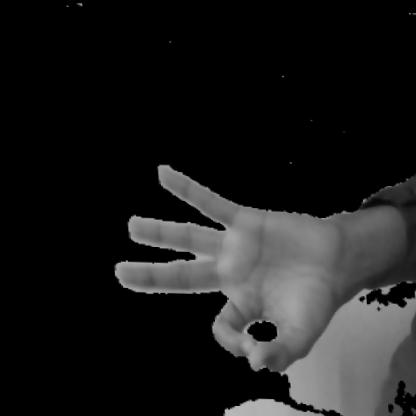ok: (94, 150, 356, 381)
